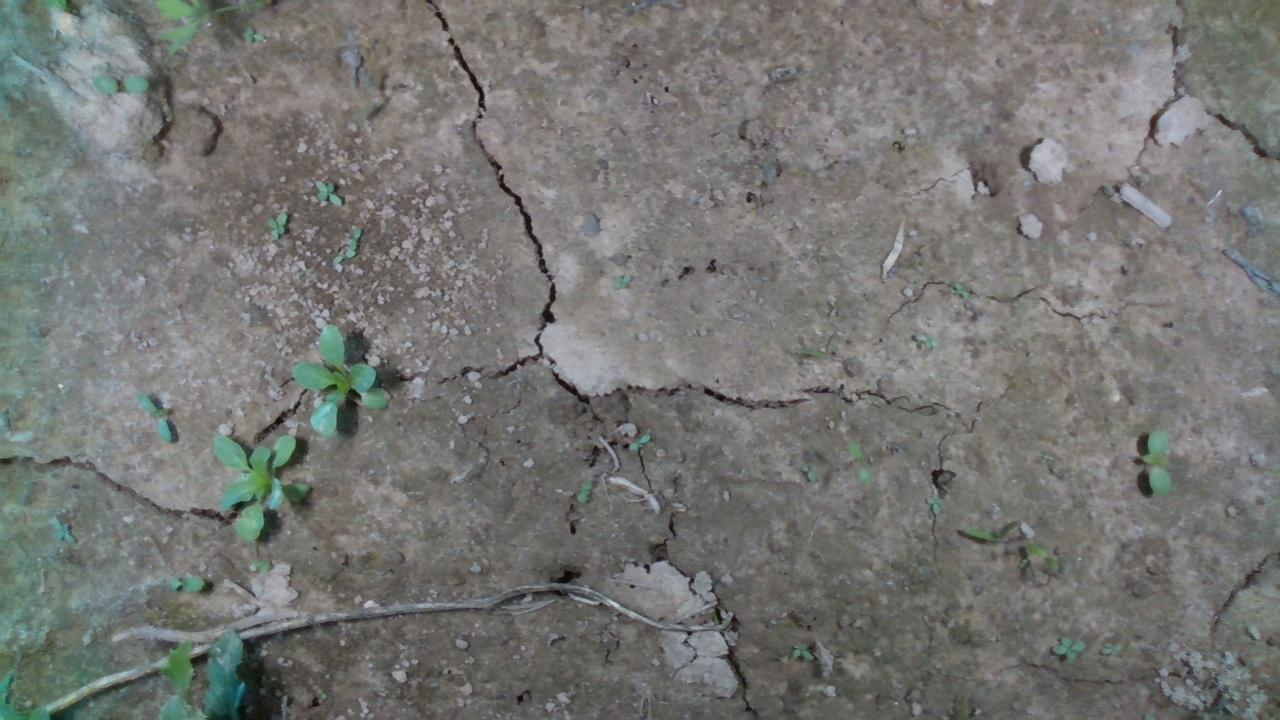weed: (1132, 420, 1189, 501), (134, 384, 183, 453), (1047, 628, 1096, 671), (332, 221, 372, 273), (308, 173, 347, 215), (843, 438, 874, 486), (619, 423, 657, 461), (169, 564, 208, 597), (263, 204, 292, 248), (89, 75, 152, 94), (606, 265, 644, 294), (575, 475, 595, 502), (924, 496, 943, 514)
